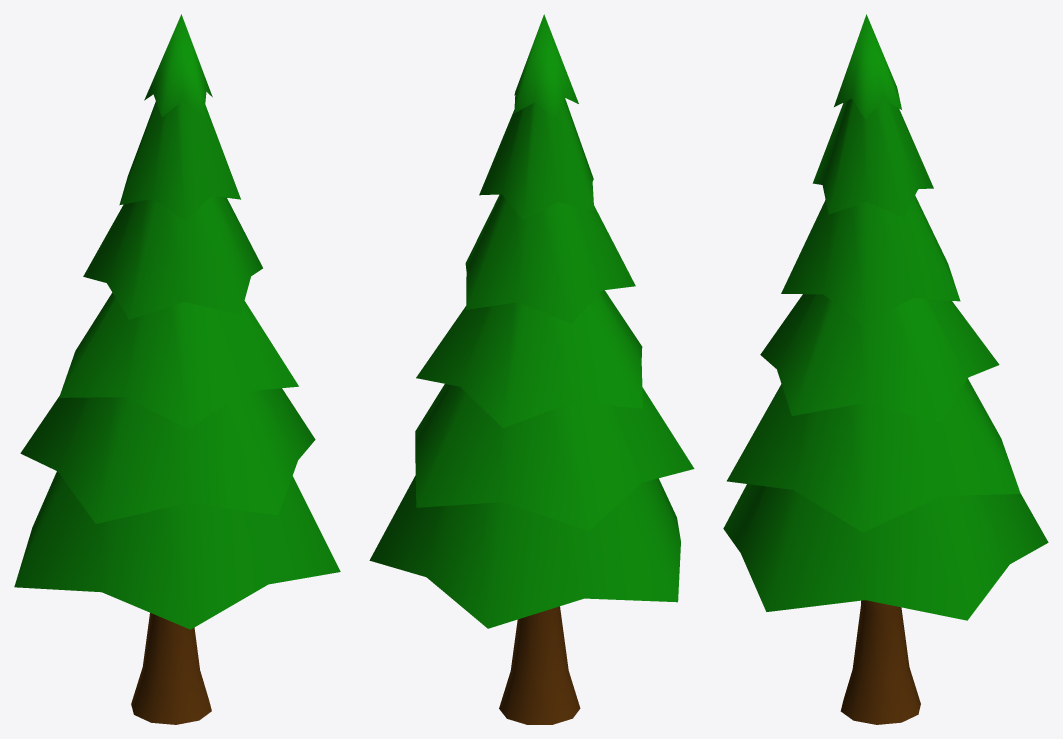
File: tree2.fbx
The picture shows the model from 3 angles, left to right: view 1: azimuth 30°, elevation 25°; view 2: azimuth 150°, elevation 25°; view 3: azimuth 270°, elevation 25°; orthographic projection.
Visible parts, largest first — view 1: Цилиндр.002; view 2: Цилиндр.002; view 3: Цилиндр.002.
Part boxes in pixels (x1,y1,x2,y2): Цилиндр.002: (14,14,340,724); Цилиндр.002: (369,14,694,724); Цилиндр.002: (723,14,1048,724).
Bounding box in the file's own units: 480 × 1129 × 479.
